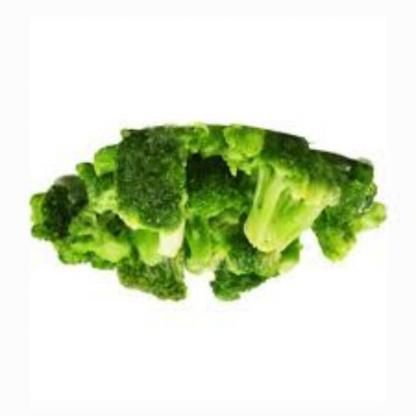broccoli: (32, 121, 402, 300)
